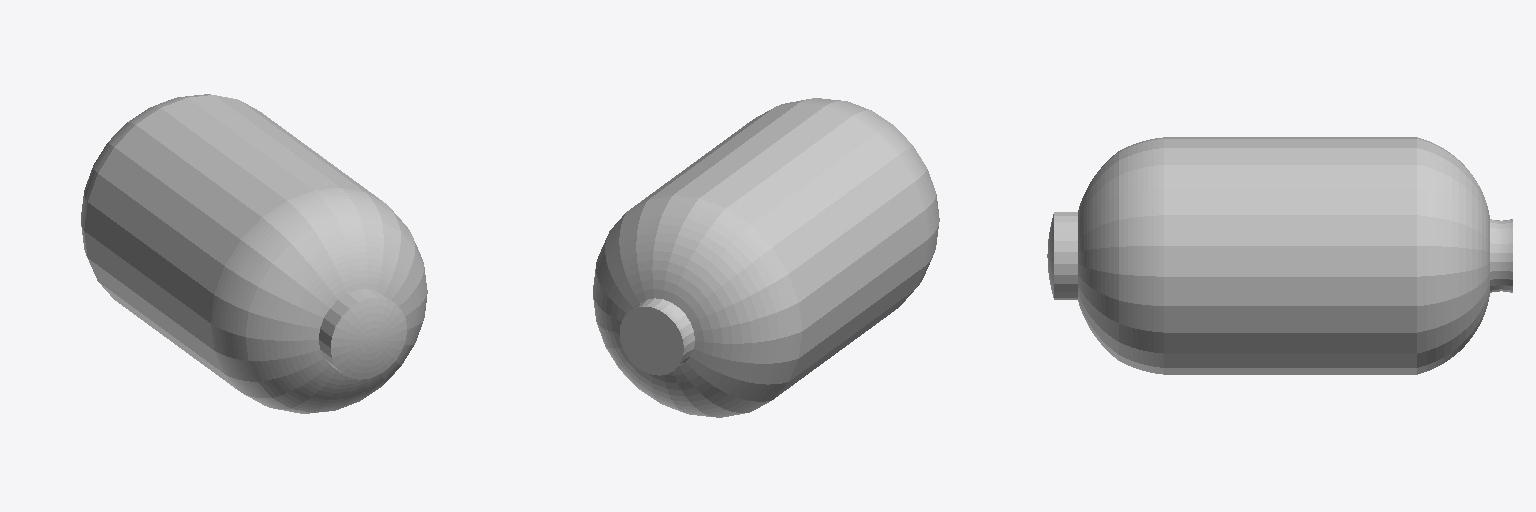
3 views of the same model, side by side, from view 1: azimuth 30°, elevation 25°; view 2: azimuth 150°, elevation 25°; view 3: azimuth 270°, elevation 25° (orthographic).
Visible parts, largest first — view 1: chinese lantern v; view 2: chinese lantern v; view 3: chinese lantern v.
Boxes of the visible parts, <box> form: chinese lantern v: <box>81,94,427,413</box>; chinese lantern v: <box>593,98,939,417</box>; chinese lantern v: <box>1047,137,1512,374</box>.
Size of the model in its own units: 28.98 by 28.98 by 56.59.